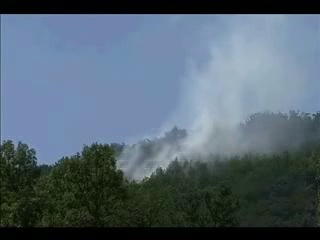smoke: (174, 14, 281, 151), (111, 99, 194, 183)
